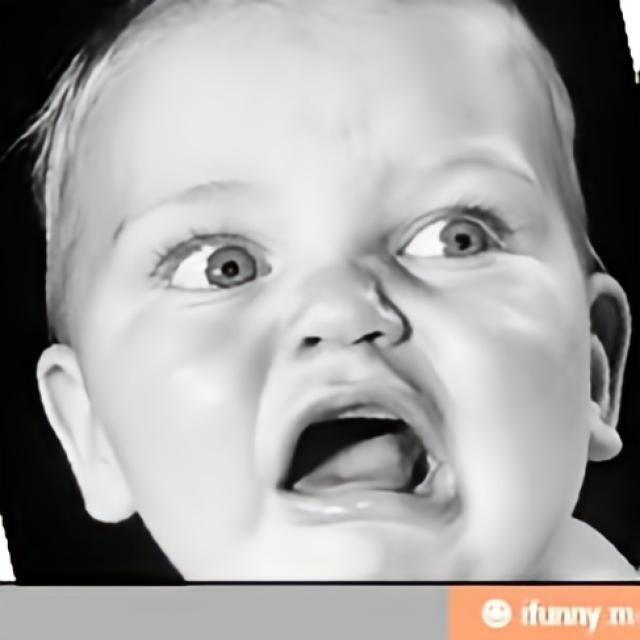disgust: (74, 0, 592, 579)
